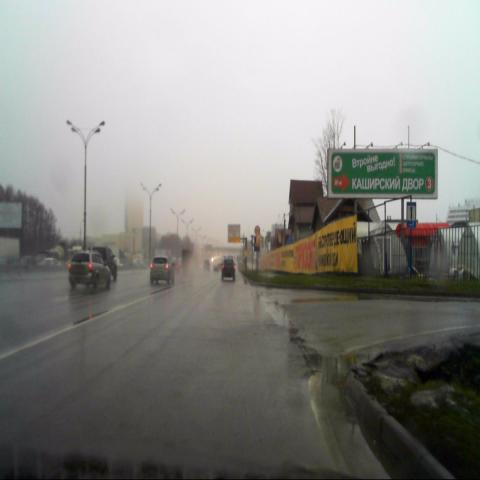7_4: (407, 202, 417, 229)
